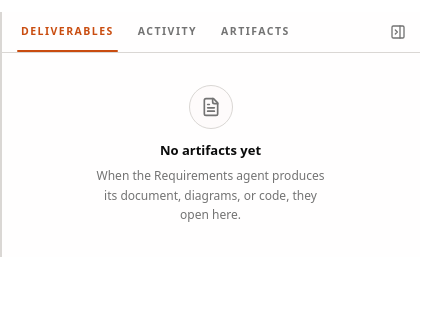
Test: the project artifacts tab › says plainly when nothing has been approved yet, and where approval happens
Click the tab "Artifacts" at (255,32), box [209,12,302,52]
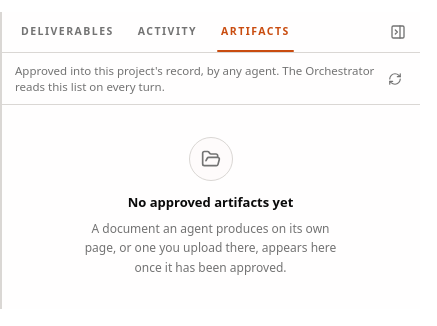
expect the heading "No approved artifacts yet" is shown: met, box [128,193,293,211]
expect the text "once it has been approved" is shown: met, box [85,220,336,276]
